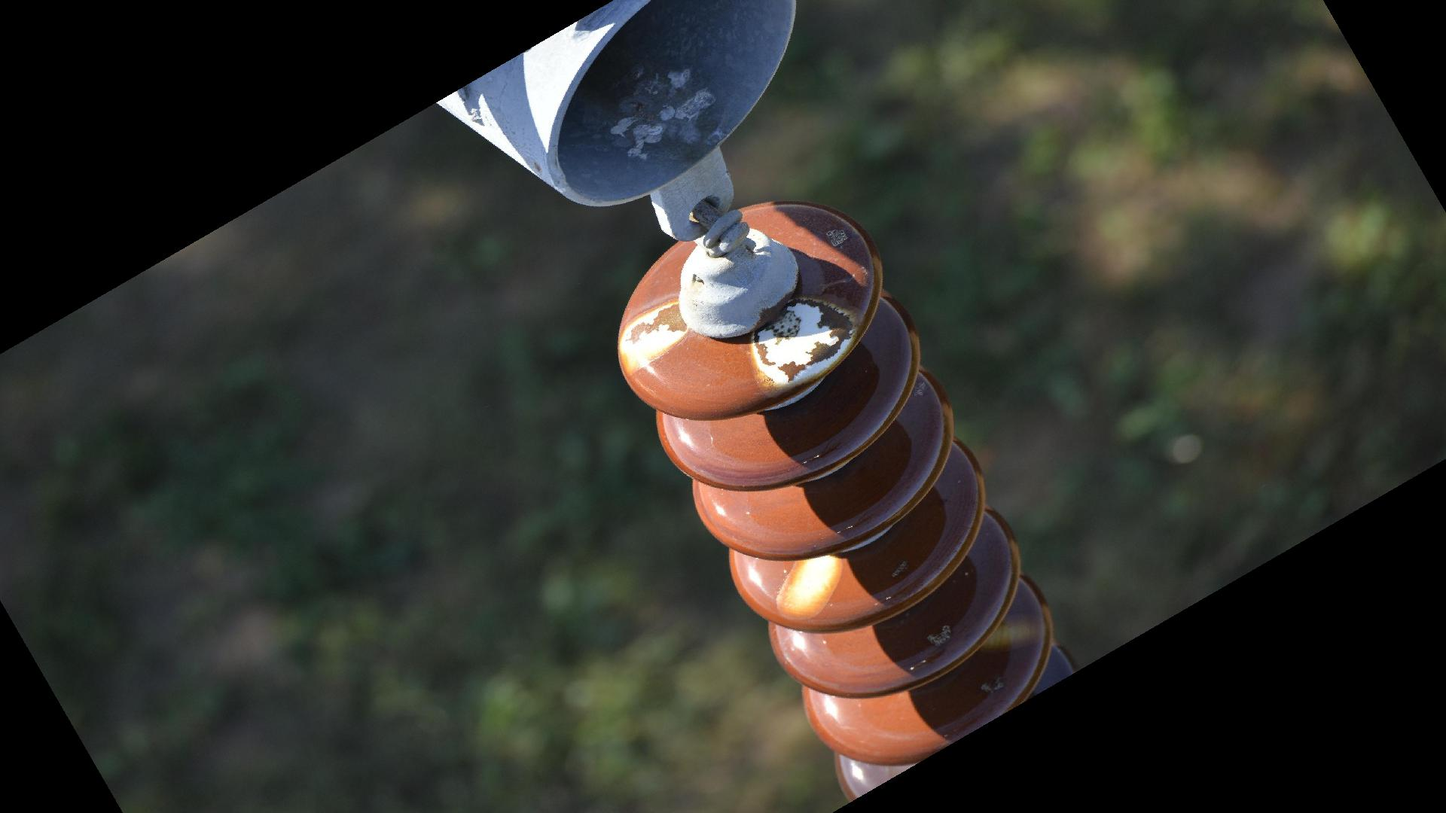insulator: (611, 195, 1086, 813)
insulator_flashover: (748, 292, 867, 391), (609, 293, 688, 378), (772, 552, 845, 624)
